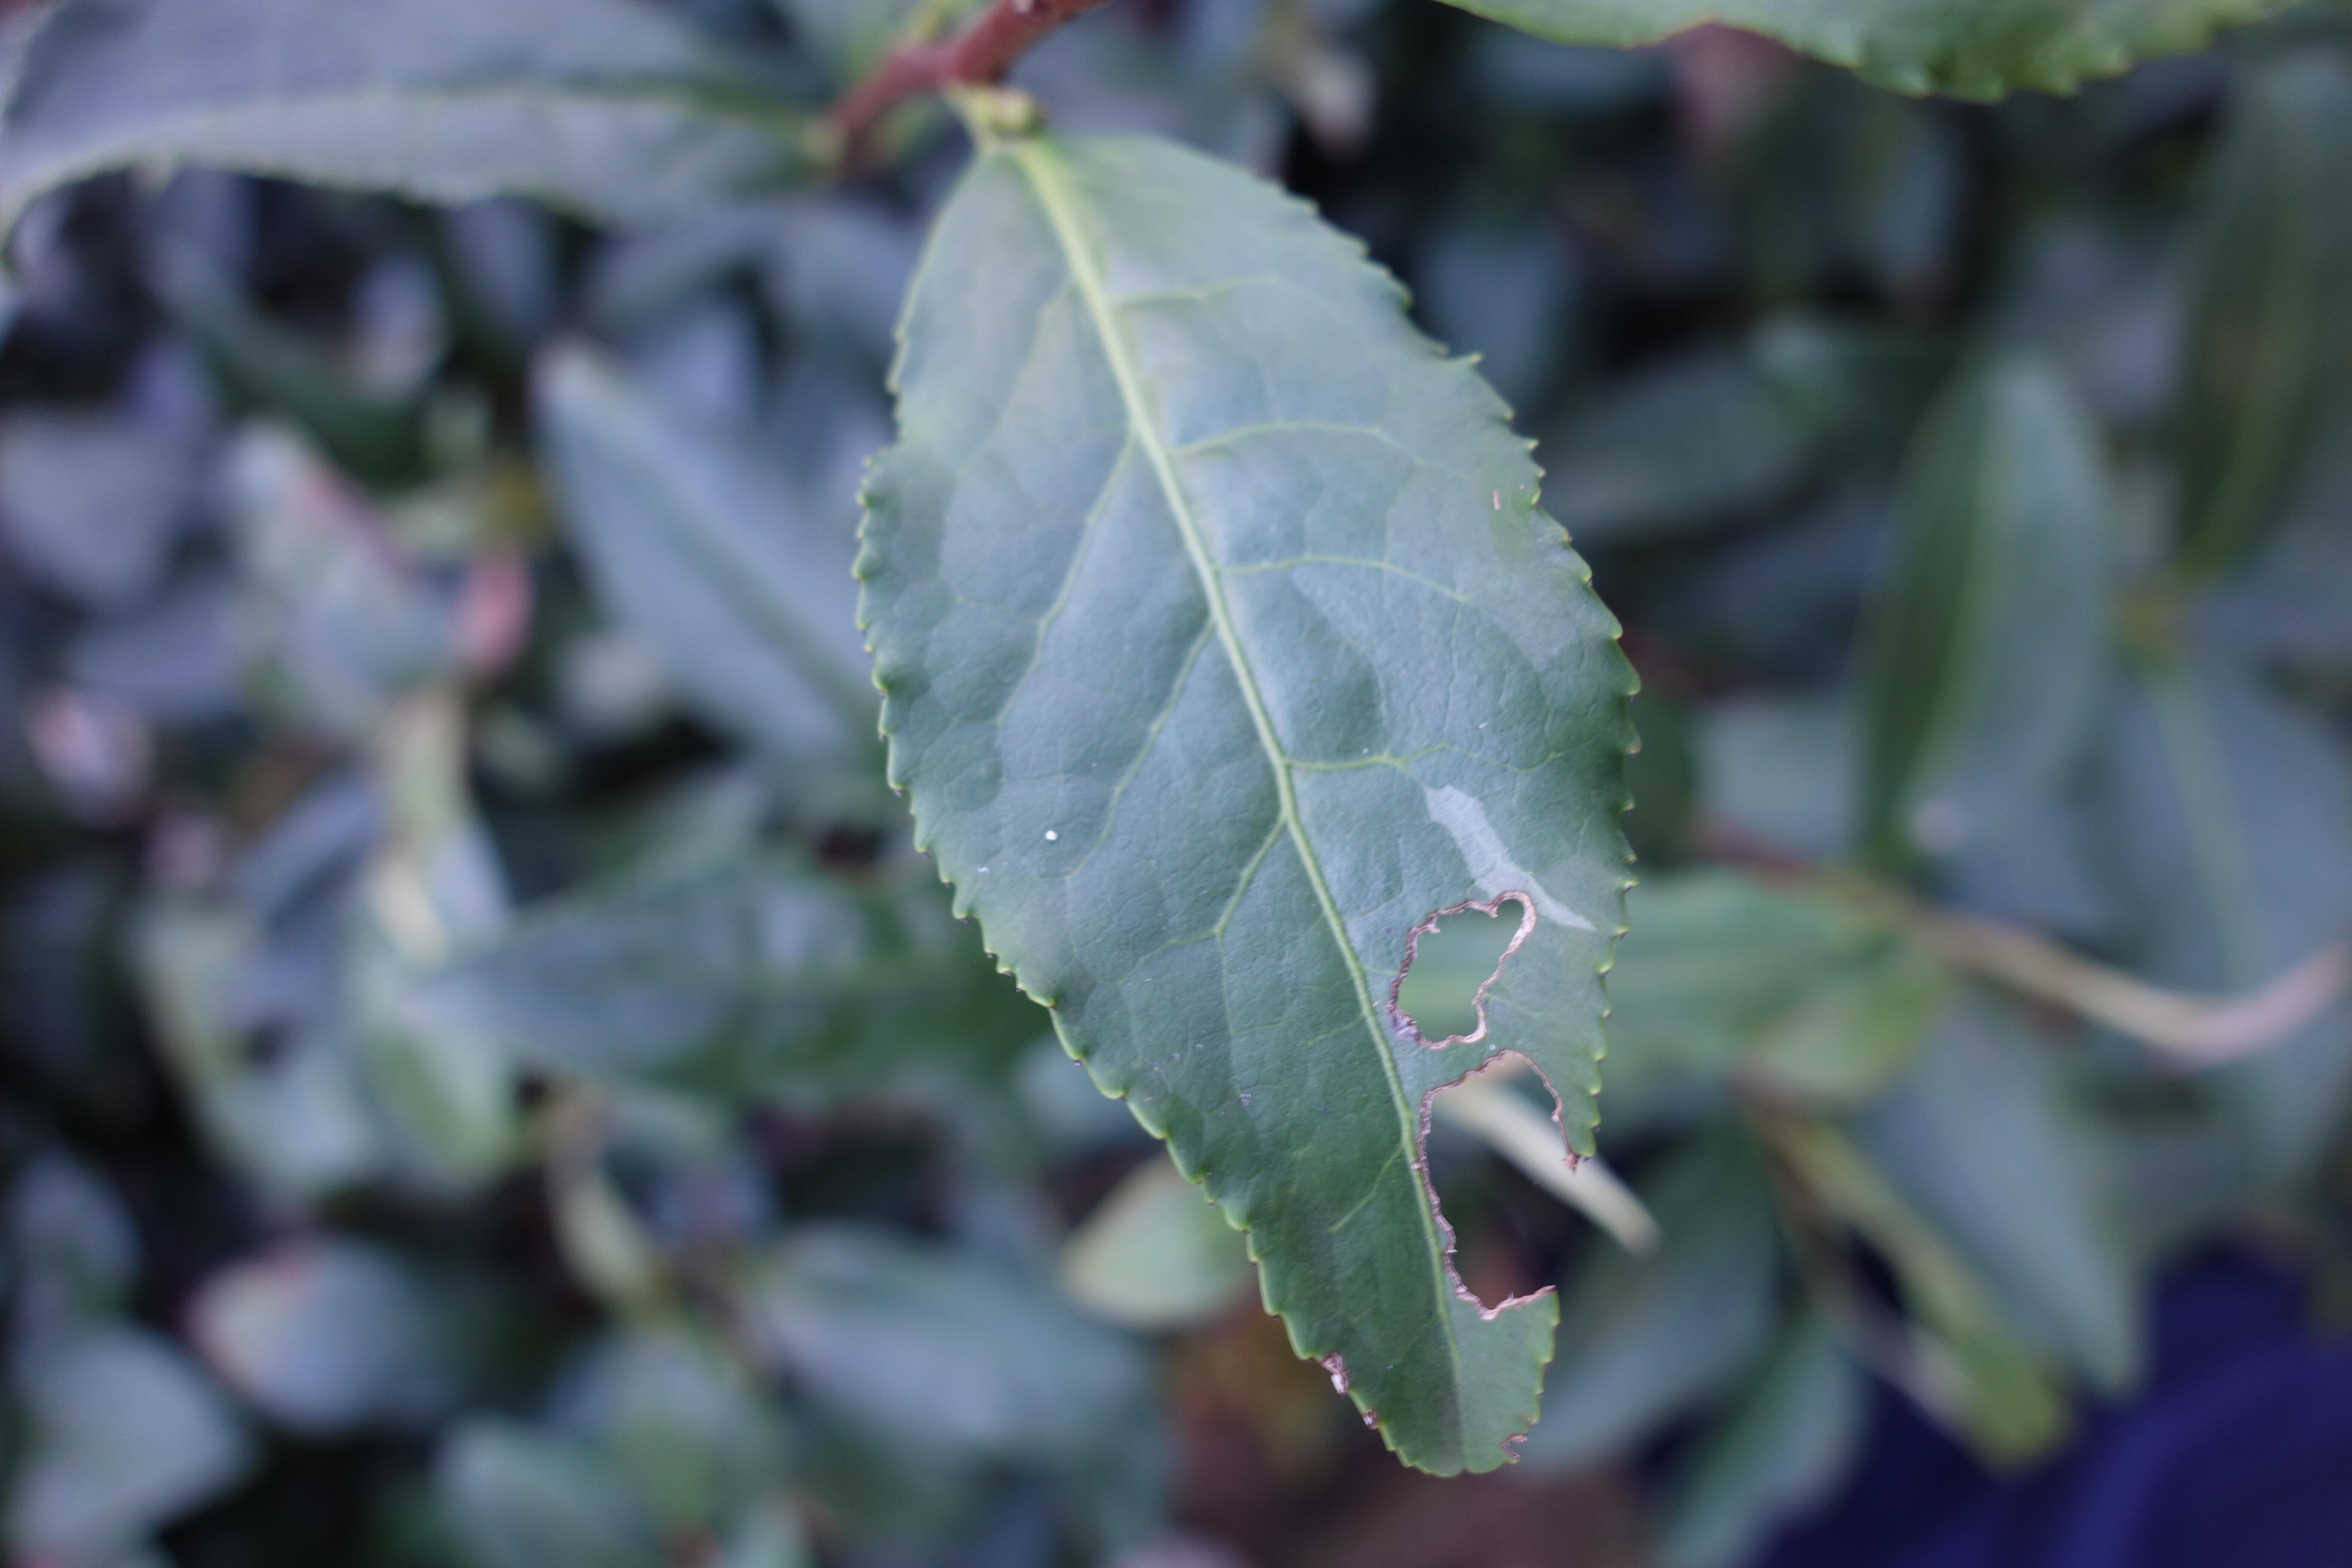chihuo_high: (849, 121, 1647, 1486)
